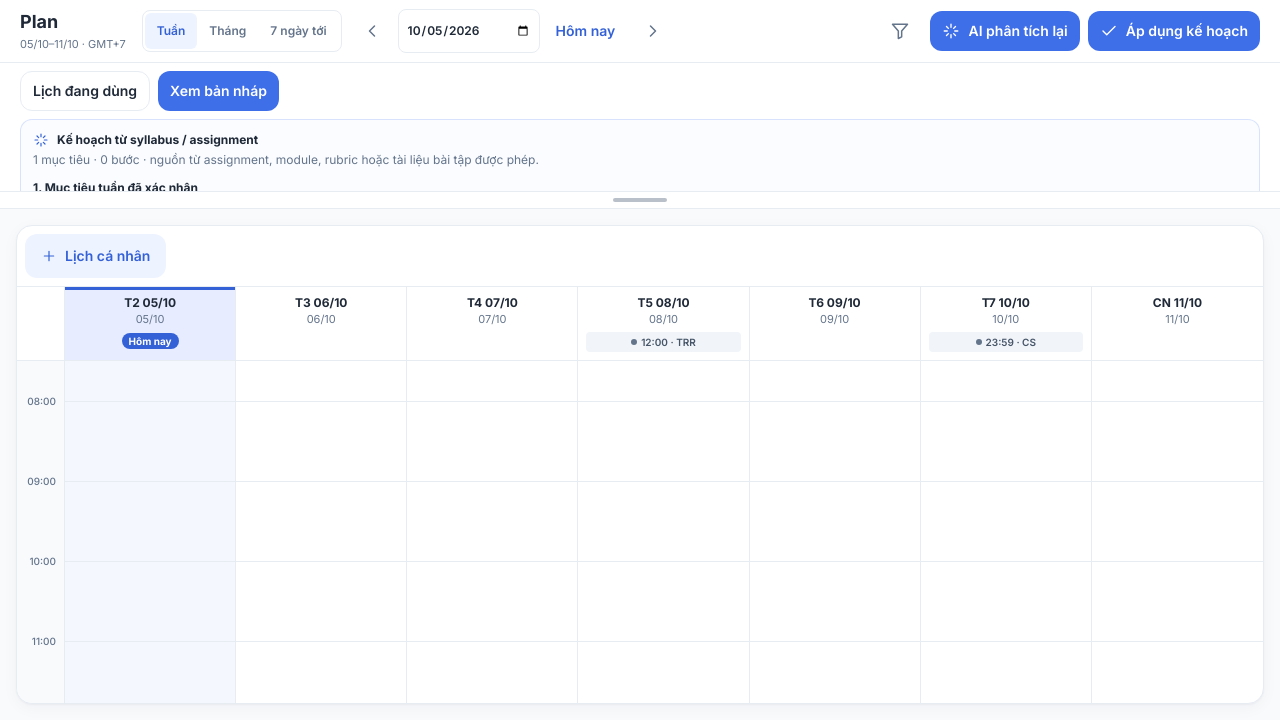
Scenario: student calendar editing workflow › re-analyzes weekly goals when the student explicitly clicks AI with an existing draft
(page scrolled)
Click the button "AI phân tích lại" at (1005, 31), box [930, 11, 1080, 51]
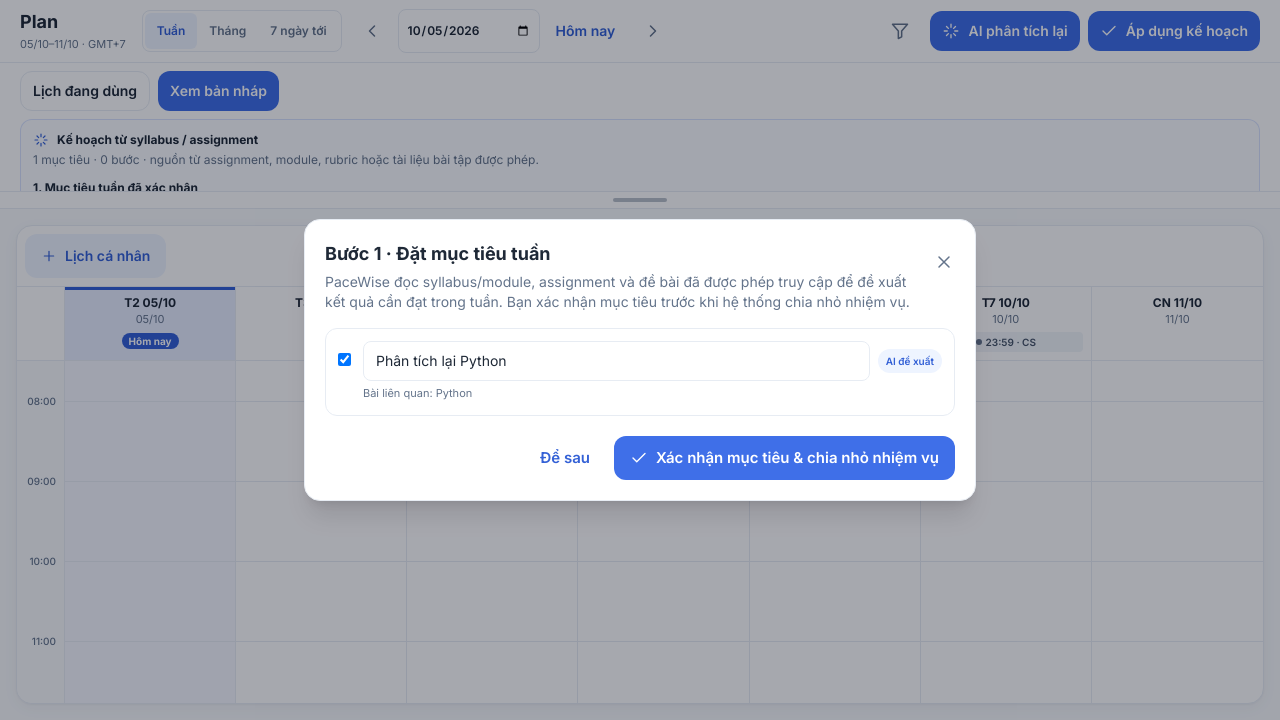
Result: the dialog "Bước 1 · Đặt mục tiêu tuần" is shown
Result: the field showing "Phân tích lại Python" is shown at [363, 341, 870, 381]
